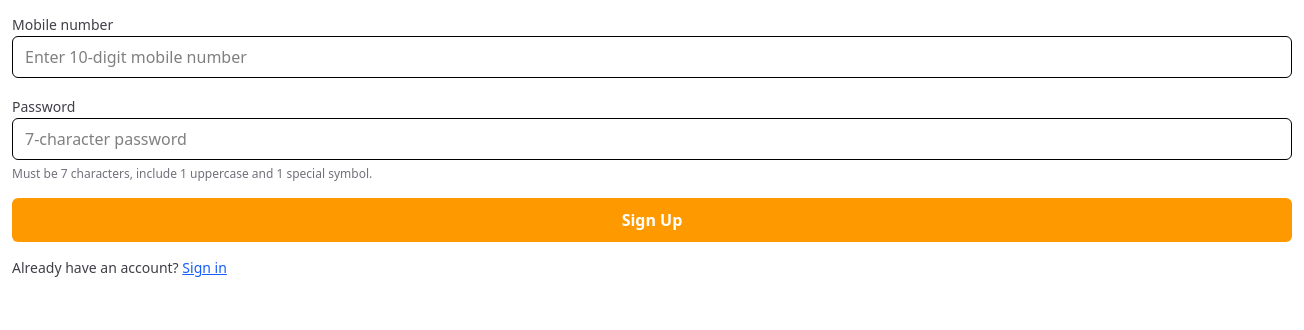
SignUpForm › rejects invalid mobile length
Type "123456789" into the field labelled "Mobile number" at (652, 57), box [12,36,1292,78]
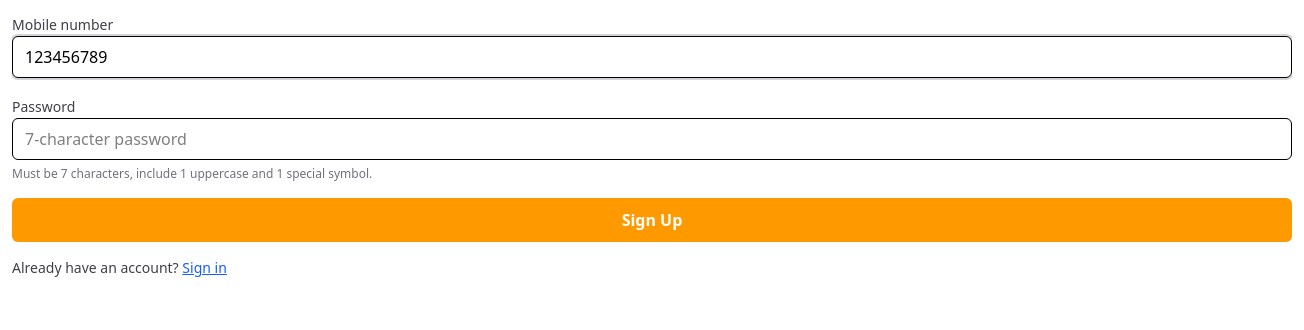
Type "Abcdef!" into the password field labelled "Password" at (652, 139), box [12,118,1292,160]
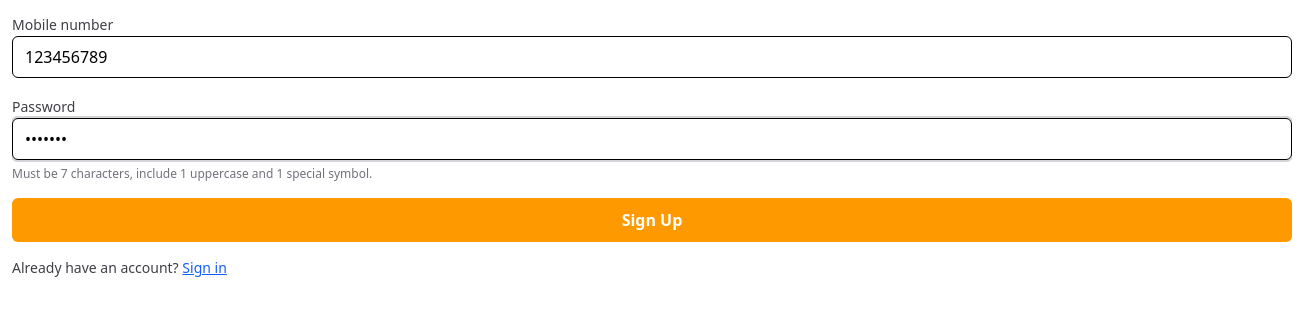
Click the button "Sign Up" at (652, 220), box [12,198,1292,242]
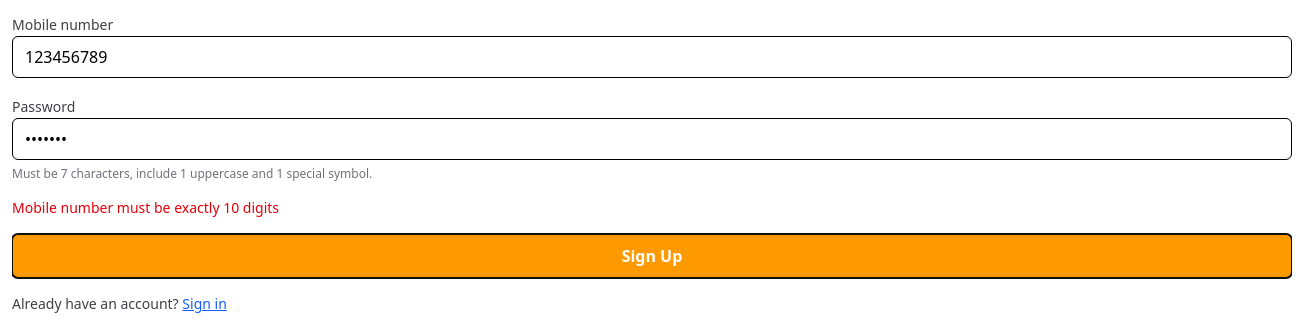
Expected: the text "Mobile number must be exactly 10 digits" is shown, [12,198,279,217]
